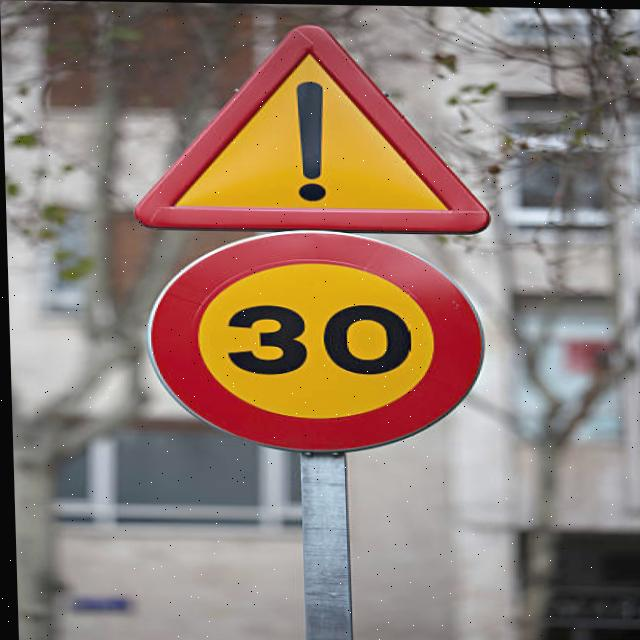Speed limit 30: (139, 228, 488, 458)
